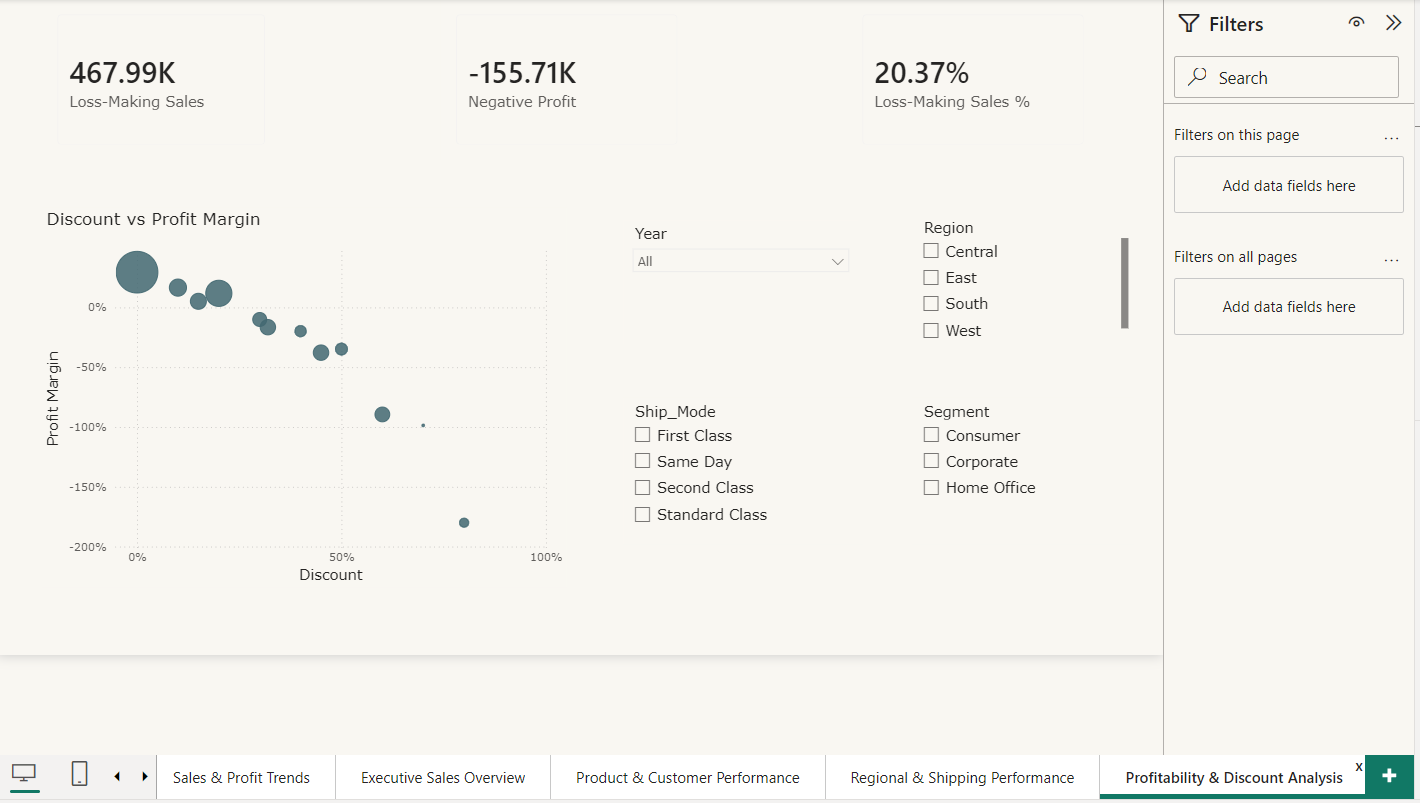

What the dashboard file says about the page in this screenshot:
{"tool":"powerbi","page":{"name":"Profitability & Discount Analysis","canvas":[1280,720],"ordinal":4},"visuals":[{"type":"cardVisual","fields":{"Data":["_Measures.Loss-Making Sales"]},"box":[49.4,0,262.1,177],"z":0},{"type":"cardVisual","fields":{"Data":["_Measures.Negative Profit"]},"box":[487.1,0,277,177],"z":1},{"type":"cardVisual","fields":{"Data":["_Measures.Loss-Making Sales %"]},"box":[933.1,0,277,177],"z":2},{"type":"scatterChart","title":"Discount vs Profit Margin","fields":{"X":["vw_Sales_Clean.Discount"],"Y":["_Measures.Profit Margin"],"Size":["_Measures.Total Profit"]},"box":[49.4,229.2,576.3,417.2],"z":3},{"type":"slicer","fields":{"Values":["DateTable.Year"]},"box":[687.5,242.9,258,135.8],"z":4},{"type":"slicer","fields":{"Values":["vw_Sales_Clean.Region"]},"box":[1004.5,236,242.9,142.7],"z":5},{"type":"slicer","fields":{"Values":["vw_Sales_Clean.Ship_Mode"]},"box":[687.5,437.7,263.5,160.5],"z":6},{"type":"slicer","fields":{"Values":["vw_Sales_Clean.Segment"]},"box":[1004,438,243,161],"z":7}]}

Visuals, with their boxes on the page's 1280x720 design canvas (x1, y1, x2, y2). These are canvas units, not pixel positions in the 1420x803 screenshot, which may show the page scaled, cropped or inside an application window:
cardVisual - _Measures.Loss-Making Sales: bbox(49, 0, 312, 177)
cardVisual - _Measures.Negative Profit: bbox(487, 0, 764, 177)
cardVisual - _Measures.Loss-Making Sales %: bbox(933, 0, 1210, 177)
"Discount vs Profit Margin" scatterChart: bbox(49, 229, 626, 646)
slicer - DateTable.Year: bbox(688, 243, 946, 379)
slicer - vw_Sales_Clean.Region: bbox(1004, 236, 1247, 379)
slicer - vw_Sales_Clean.Ship_Mode: bbox(688, 438, 951, 598)
slicer - vw_Sales_Clean.Segment: bbox(1004, 438, 1247, 599)
